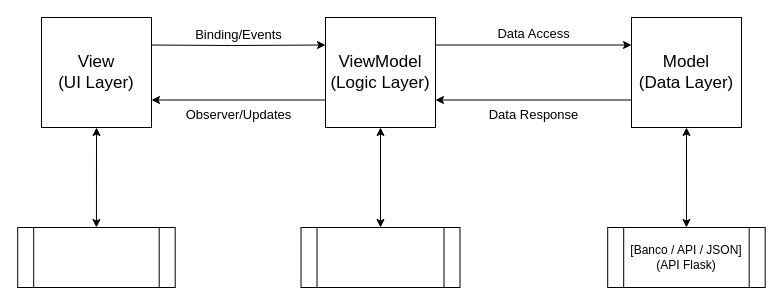
This 783x305 diagram has some shape labels left out. Each missing label, with the centre of its shape:
"[Controladores] (Validação, Cálculo)" belongs at (x=380, y=257).
"[Telas Flutter] (Gastos, Relatório)" belongs at (x=96, y=257).
